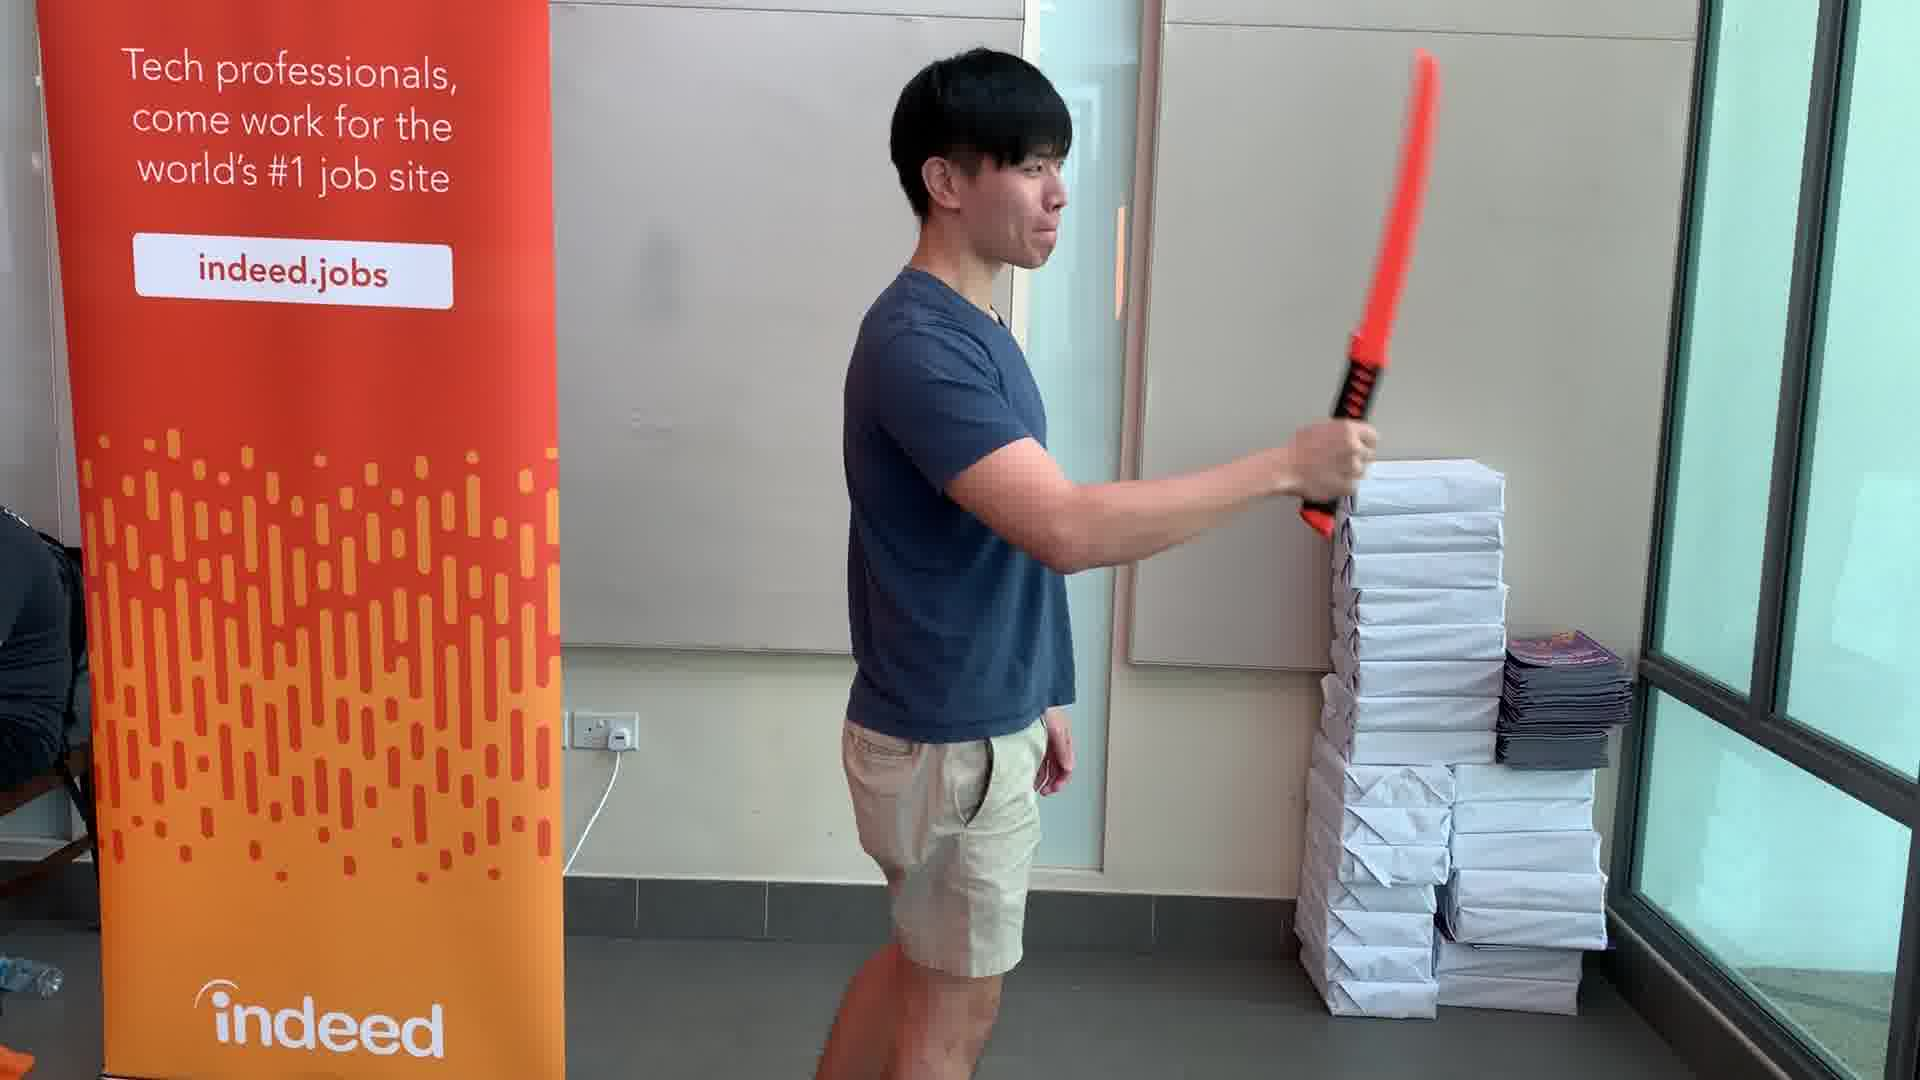knife: (1298, 32, 1448, 551)
